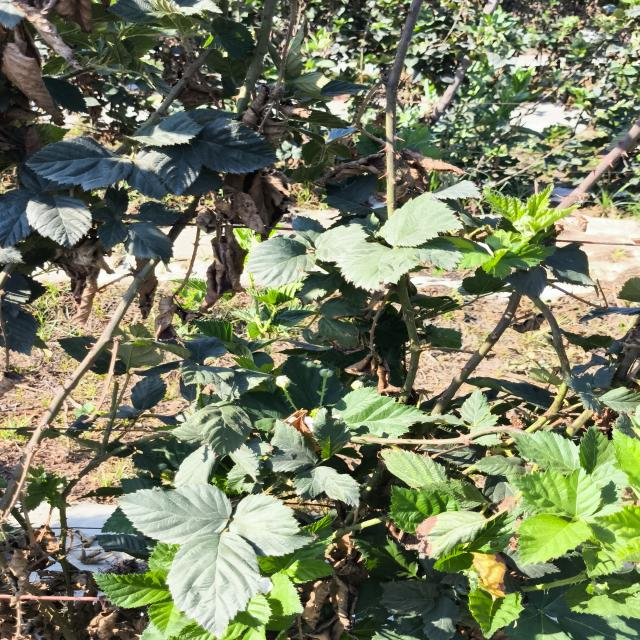boton: (276, 375, 291, 388), (351, 380, 364, 390), (319, 369, 333, 378)
